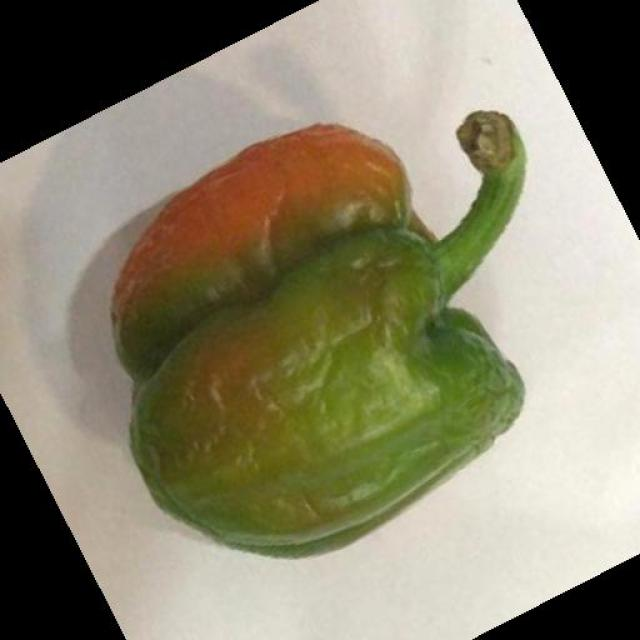Stale_Capsicum: (101, 93, 520, 499)
